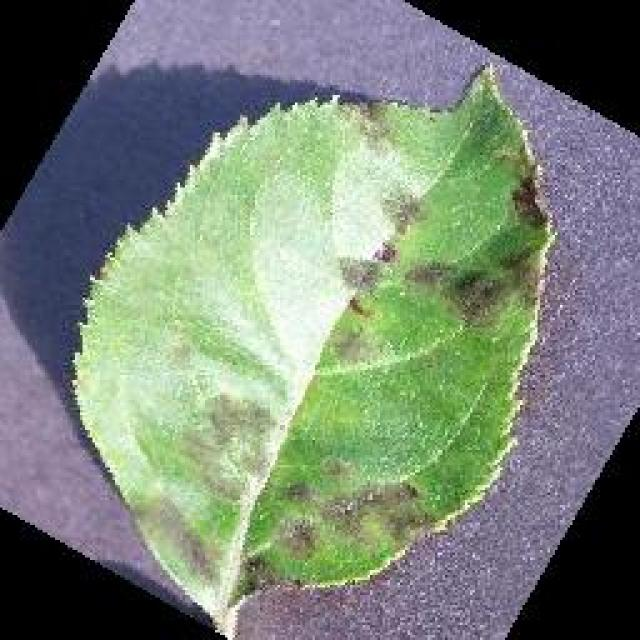apple scab disease: (68, 60, 558, 638)
